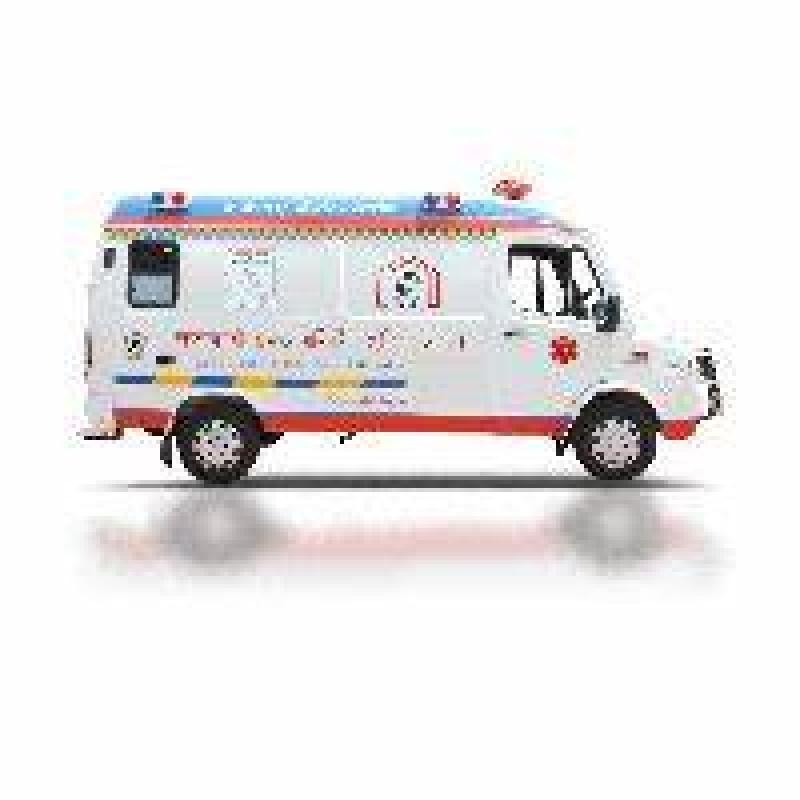AmbulanceSiren: (146, 185, 196, 223), (414, 183, 466, 219)
